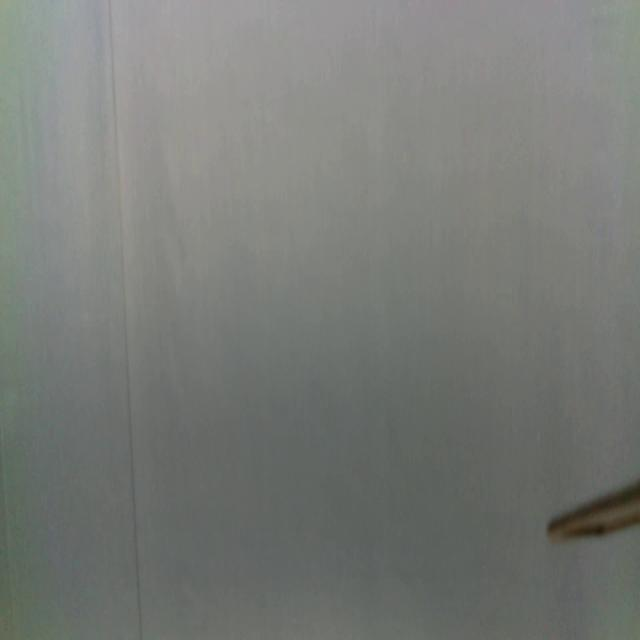crease: (108, 1, 144, 640)
